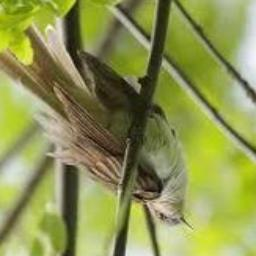Cuckoo: (0, 25, 195, 232)
